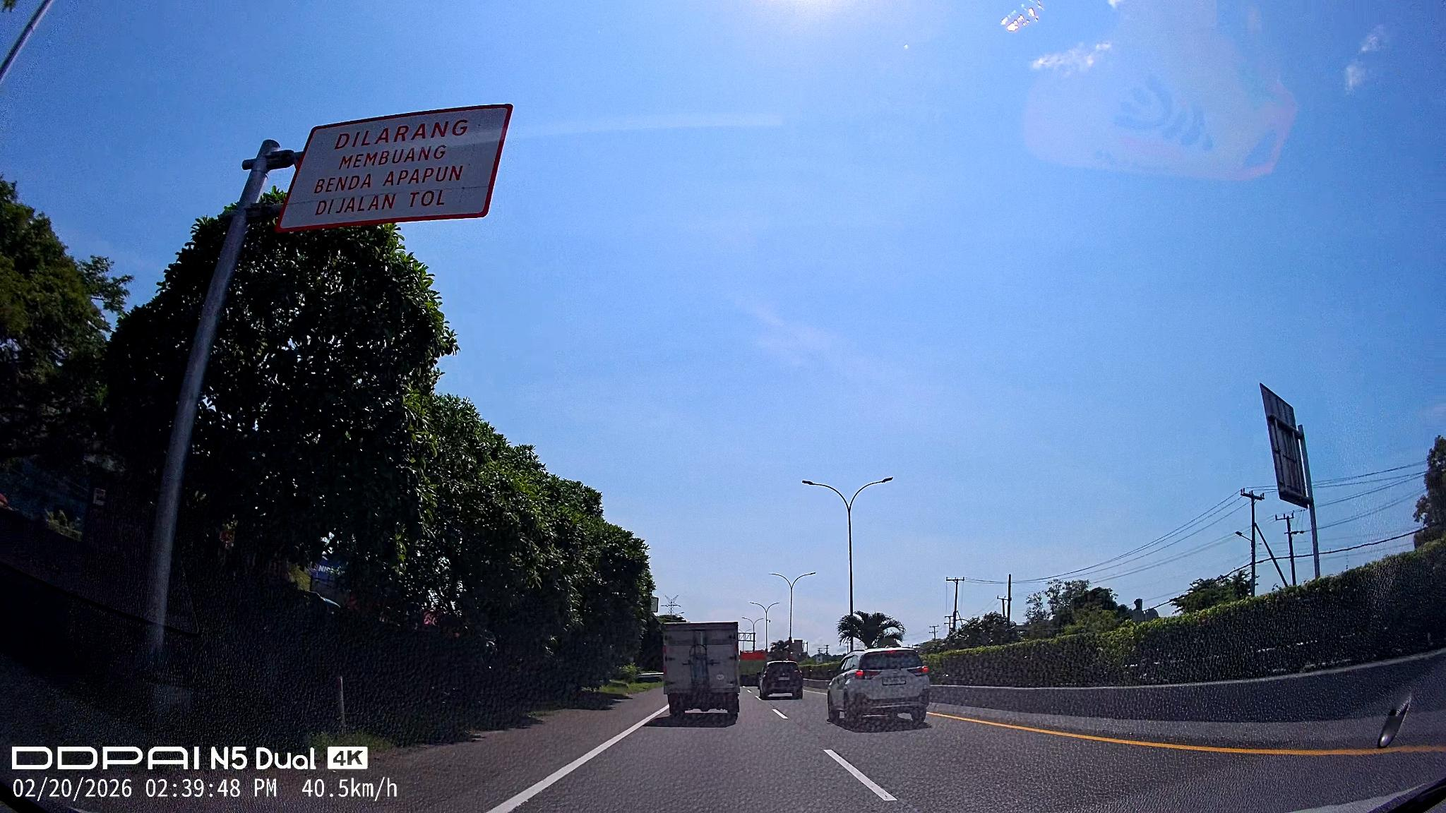rambu_teks: (272, 100, 516, 237)
